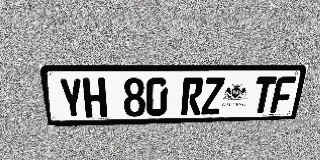0: (146, 77, 168, 116)
8: (123, 78, 145, 117)
F: (270, 77, 296, 113)
H: (82, 78, 107, 118)
R: (181, 77, 204, 115)
T: (251, 77, 277, 114)
Y: (58, 78, 85, 119)
Z: (201, 77, 225, 115)
